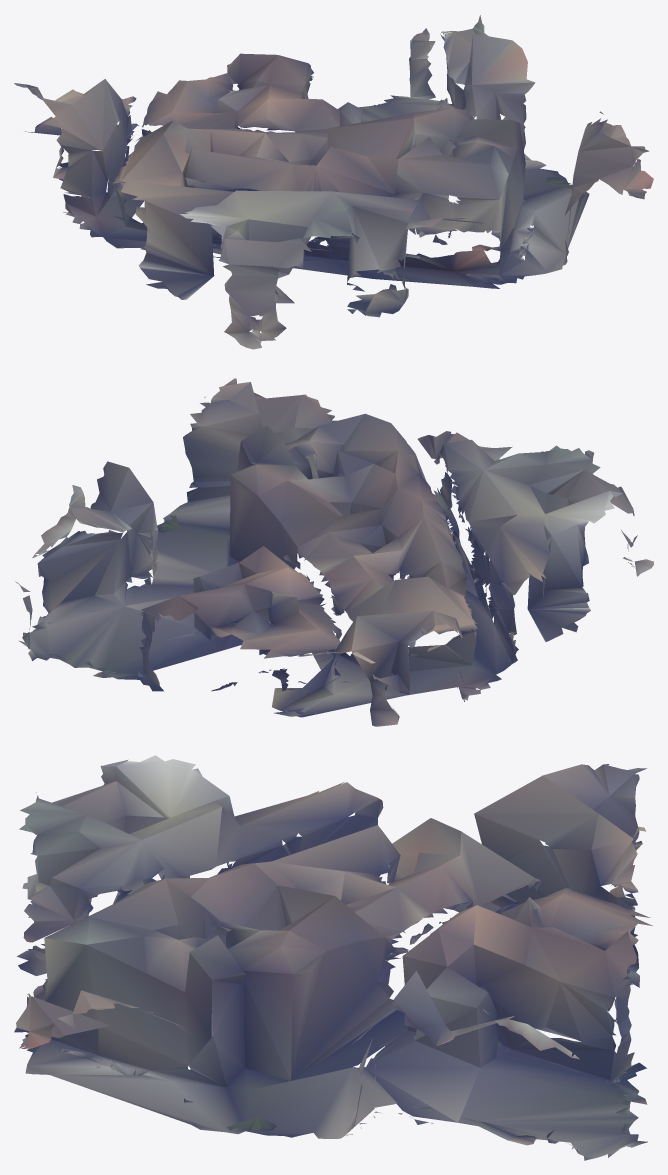
3 renders of one model, top to bottom at view 1: azimuth 30°, elevation 25°; view 2: azimuth 150°, elevation 25°; view 3: azimuth 270°, elevation 25°, orthographic. The views are drawn at different scales.
Bounding box in the file's own units: 108 × 31.31 × 108.
